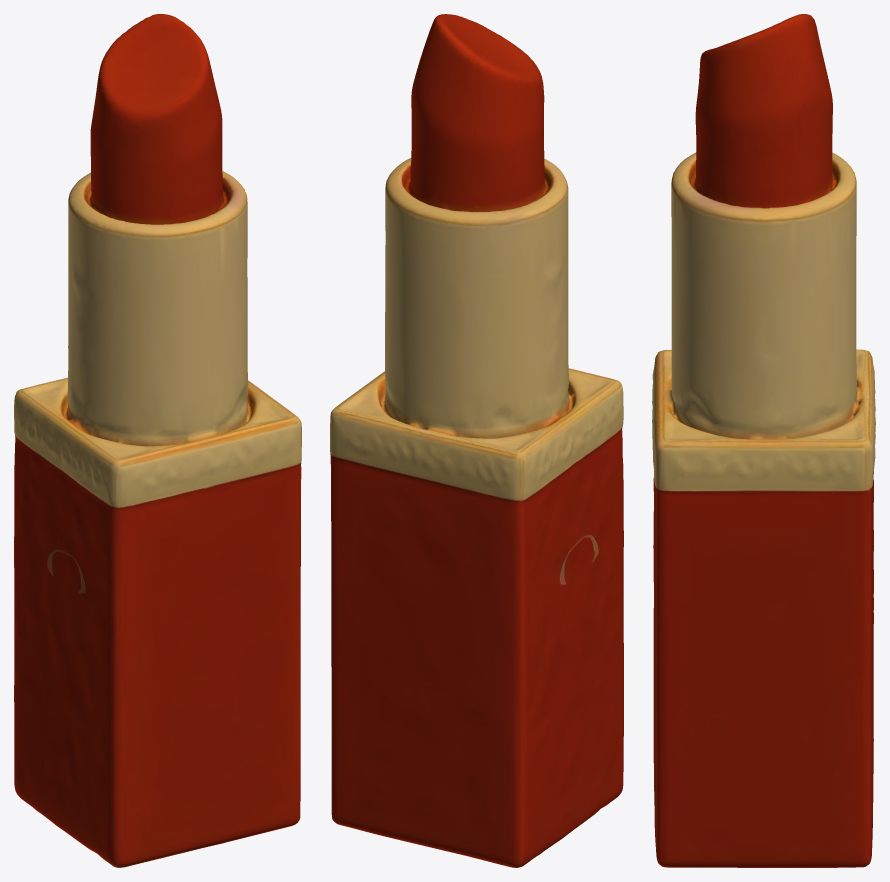
3 views of the same model, side by side, from view 1: azimuth 30°, elevation 25°; view 2: azimuth 150°, elevation 25°; view 3: azimuth 270°, elevation 25° (orthographic). The views are drawn at different scales.
Visible parts, largest first — view 1: material; view 2: material; view 3: material.
Part boxes in pixels (box(x1,y1,x2,y2)): material: box(14, 14, 301, 867); material: box(330, 14, 623, 867); material: box(652, 14, 875, 867).
Bounding box in the file's own units: 0.2967 × 1.14 × 0.2831.
1 material, 1 textured.
